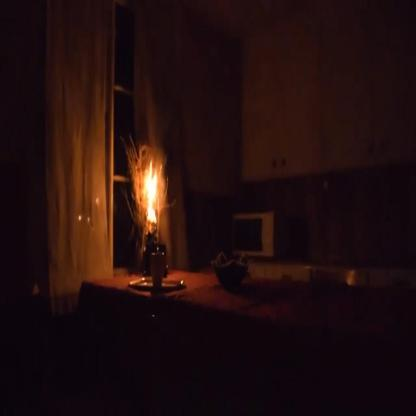fire: (141, 153, 164, 231)
